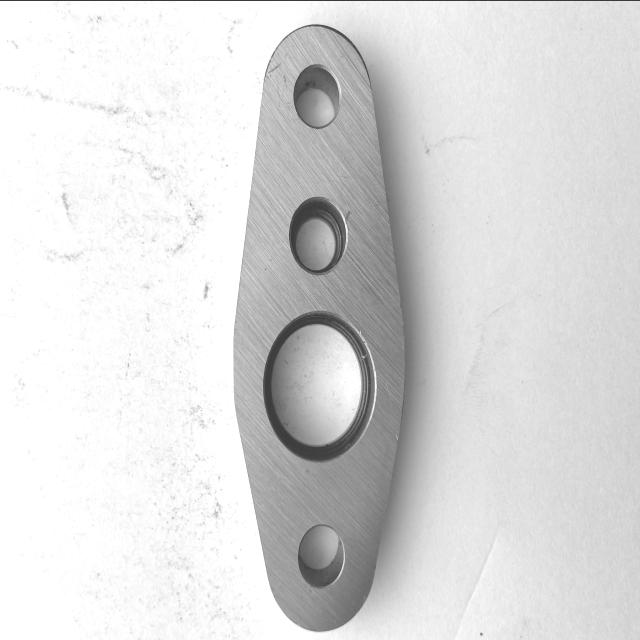chap: (360, 592, 368, 604), (394, 430, 400, 442), (358, 325, 363, 337)
lines: (268, 58, 284, 78), (345, 206, 351, 222)
